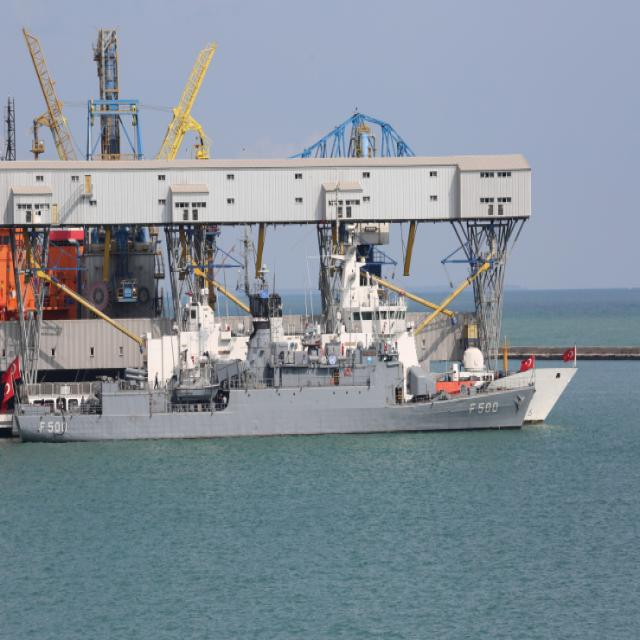Fragata: (3, 250, 542, 448)
